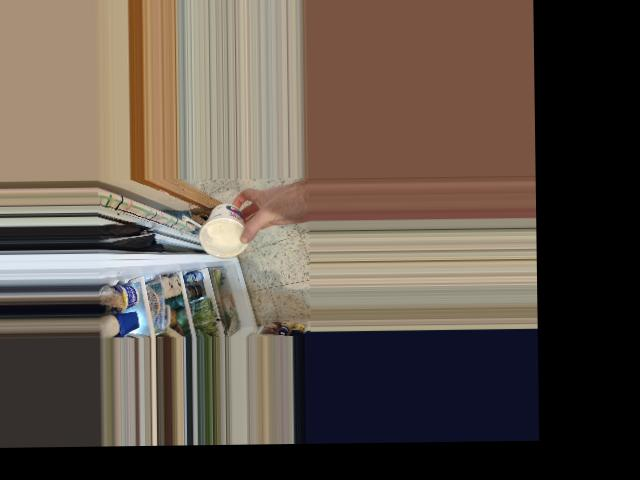cotage: (199, 203, 245, 255)
